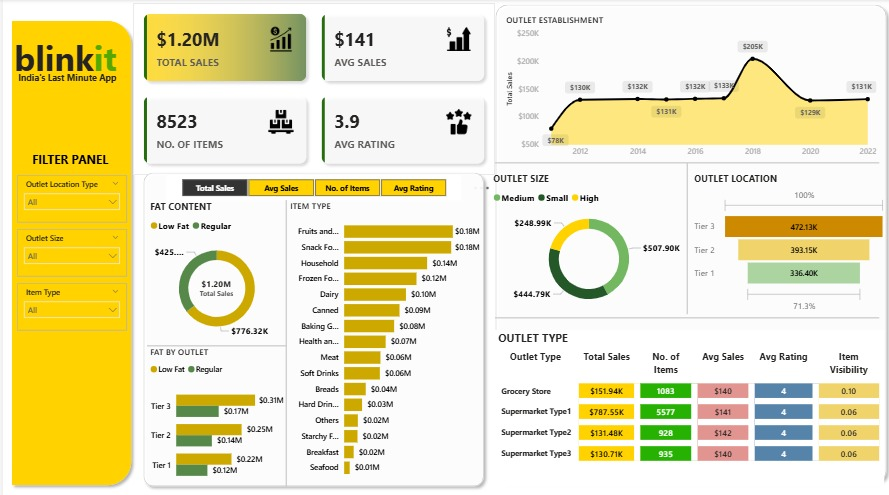

This screenshot's page, from the dashboard's own definition file:
{"tool":"powerbi","page":{"name":"Page 1","canvas":[1400,800],"ordinal":0},"visuals":[{"type":"shape","box":[4.7,25.2,206.3,749.6],"z":0},{"type":"textbox","box":[12.9,49.6,180.1,91.9],"z":1000},{"type":"textbox","box":[19.3,108.6,178.6,32.9],"z":2000},{"type":"cardVisual","fields":{"Data":["BlinkIT Grocery Data.Total Sales","BlinkIT Grocery Data.Avg Sales","BlinkIT Grocery Data.No. of Items","BlinkIT Grocery Data.Avg Rating"]},"box":[205,6.7,570,270],"z":3000},{"type":"shape","box":[213.3,265,553.3,511.7],"z":4000},{"type":"donutChart","title":"FAT CONTENT","fields":{"Y":["BlinkIT Grocery Data.Total Sales","BlinkIT Grocery Data.Total Sales"],"Category":["BlinkIT Grocery Data.Item Fat Content"]},"box":[226.7,316.7,220,230],"z":5000},{"type":"slicer","fields":{"Values":["Metrics.Metrics"]},"box":[256.7,276.7,465,40],"z":6000},{"type":"cardVisual","fields":{"Data":["BlinkIT Grocery Data.Total Sales"]},"box":[283.3,420,105,70],"z":7000},{"type":"clusteredBarChart","title":"FAT BY OUTLET","fields":{"Y":["BlinkIT Grocery Data.Total Sales"],"Category":["BlinkIT Grocery Data.Outlet Location Type"],"Series":["BlinkIT Grocery Data.Item Fat Content"]},"box":[226.7,546.7,220,230],"z":8000},{"type":"shape","box":[226.7,508.3,220,75],"z":9000},{"type":"shape","box":[423.3,316.7,45,453.3],"z":10000},{"type":"barChart","title":"ITEM TYPE","fields":{"Y":["BlinkIT Grocery Data.Total Sales"],"Category":["BlinkIT Grocery Data.Item Type"]},"box":[446.7,316.7,308.3,446.7],"z":11000},{"type":"shape","box":[766.7,0,633.3,770],"z":12000},{"type":"lineChart","title":"OUTLET ESTABLISHMENT","fields":{"Y":["BlinkIT Grocery Data.Total Sales"],"Category":["BlinkIT Grocery Data.Outlet Establishment Year"]},"box":[786.7,23.3,593.3,235],"z":13000},{"type":"shape","box":[775,220,605,75],"z":14000},{"type":"donutChart","title":"OUTLET SIZE","fields":{"Y":["BlinkIT Grocery Data.Total Sales","BlinkIT Grocery Data.Total Sales"],"Category":["BlinkIT Grocery Data.Outlet Size"]},"box":[766.7,271.7,311.7,225],"z":15000},{"type":"shape","box":[1055,258.3,45,238.3],"z":16000},{"type":"funnel","title":"OUTLET LOCATION","fields":{"Y":["Sum(BlinkIT Grocery Data.Sales)"],"Category":["BlinkIT Grocery Data.Outlet Location Type"]},"box":[1083.3,271.7,311.7,225],"z":17000},{"type":"shape","box":[775,465,605,75],"z":18000},{"type":"pivotTable","title":"OUTLET TYPE","fields":{"Rows":["BlinkIT Grocery Data.Outlet Type"],"Values":["BlinkIT Grocery Data.Total Sales","BlinkIT Grocery Data.No. of Items","BlinkIT Grocery Data.Avg Sales","BlinkIT Grocery Data.Avg Rating","Avg(BlinkIT Grocery Data.Item Visibility)"]},"box":[775,521.7,613.3,246.7],"z":19000},{"type":"slicer","fields":{"Values":["BlinkIT Grocery Data.Outlet Location Type"]},"box":[21.7,276.7,173.3,75],"z":20000},{"type":"slicer","fields":{"Values":["BlinkIT Grocery Data.Outlet Size"]},"box":[21.7,361.7,173.3,75],"z":21000},{"type":"slicer","fields":{"Values":["BlinkIT Grocery Data.Item Type"]},"box":[21.7,446.7,173.3,75],"z":22000},{"type":"textbox","box":[40.9,234.6,151.2,42.5],"z":23000}]}

Visuals, with their boxes in screenshot pixels (x1, y1, x2, y2), scaled from the page's 1400x800 canvas onto the 889x495 screenshot:
shape: detection(3, 16, 134, 479)
textbox: detection(8, 31, 123, 88)
textbox: detection(12, 67, 126, 88)
cardVisual - BlinkIT Grocery Data.Total Sales x BlinkIT Grocery Data.Avg Sales: detection(130, 4, 492, 171)
shape: detection(135, 164, 487, 481)
"FAT CONTENT" donutChart: detection(144, 196, 284, 338)
slicer - Metrics.Metrics: detection(163, 171, 458, 196)
cardVisual - BlinkIT Grocery Data.Total Sales: detection(180, 260, 247, 303)
"FAT BY OUTLET" clusteredBarChart: detection(144, 338, 284, 481)
shape: detection(144, 315, 284, 361)
shape: detection(269, 196, 297, 476)
"ITEM TYPE" barChart: detection(284, 196, 479, 472)
shape: detection(487, 0, 888, 476)
"OUTLET ESTABLISHMENT" lineChart: detection(500, 14, 876, 160)
shape: detection(492, 136, 876, 183)
"OUTLET SIZE" donutChart: detection(487, 168, 685, 307)
shape: detection(670, 160, 698, 307)
"OUTLET LOCATION" funnel: detection(688, 168, 886, 307)
shape: detection(492, 288, 876, 334)
"OUTLET TYPE" pivotTable: detection(492, 323, 882, 475)
slicer - BlinkIT Grocery Data.Outlet Location Type: detection(14, 171, 124, 218)
slicer - BlinkIT Grocery Data.Outlet Size: detection(14, 224, 124, 270)
slicer - BlinkIT Grocery Data.Item Type: detection(14, 276, 124, 323)
textbox: detection(26, 145, 122, 171)
